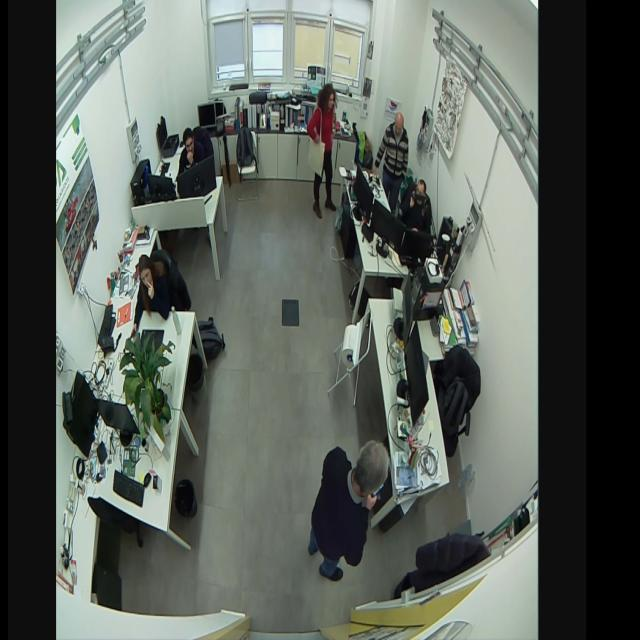Persona: (306, 438, 392, 584), (307, 79, 340, 221), (128, 247, 176, 343), (372, 109, 410, 193), (176, 122, 214, 179)
